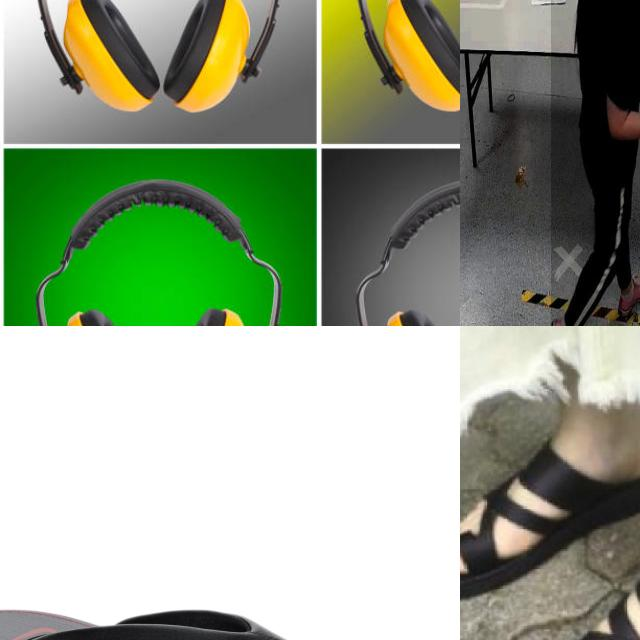Ear-protection: (3, 177, 293, 326), (31, 0, 287, 117), (337, 172, 460, 326)
Sandals: (460, 382, 640, 612), (519, 441, 640, 640)
person: (551, 0, 640, 326)
shoes: (616, 264, 640, 320)
